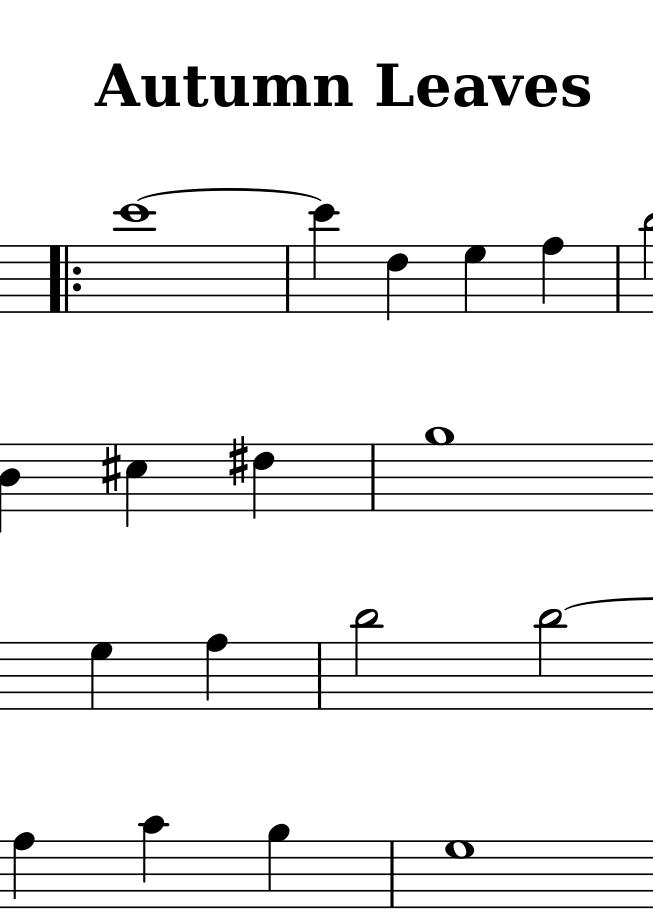1_12: (115, 202, 157, 316)
1_7: (443, 838, 476, 910)
1_9: (421, 425, 457, 514)
2_11: (536, 607, 567, 714), (352, 608, 381, 712)
4_10: (140, 813, 165, 908)
4_12: (309, 203, 340, 315)
4_5: (123, 441, 148, 530)
4_6: (251, 441, 280, 523), (385, 243, 410, 322)
4_7: (87, 640, 117, 712), (463, 243, 489, 314)
4_8: (204, 632, 231, 714), (11, 831, 39, 908), (541, 236, 568, 315)
4_9: (266, 823, 292, 910)
LeftRepeatSign: (45, 245, 83, 314)
Sharp: (227, 432, 250, 491), (99, 443, 121, 497)
Single_barline: (277, 244, 300, 312), (383, 838, 404, 908), (364, 443, 385, 509), (311, 641, 330, 709)
Slur: (132, 186, 324, 202)
